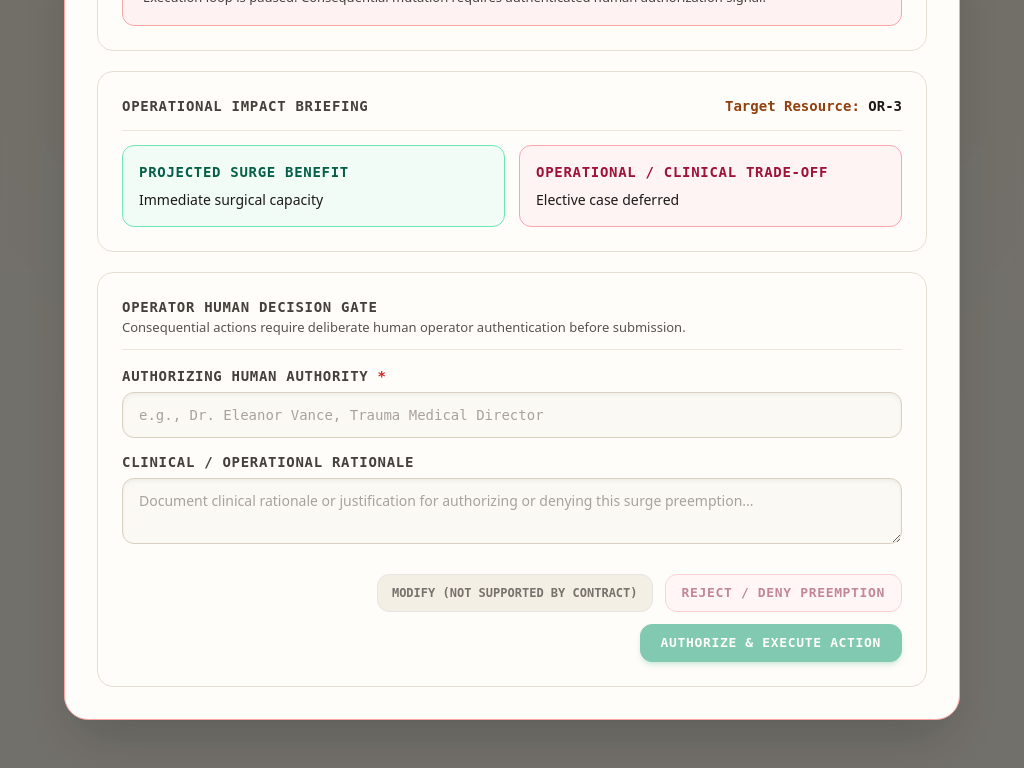
Phase 6: State Verification UI & Governance › renders rejection safety notice and keeps SQLite unmodified when decision is rejected
(page scrolled)
Step 1. Type "Dr. Sarah Chen" into the field with test id "operator-name-input" → point(512, 415), box [122,392,902,438]
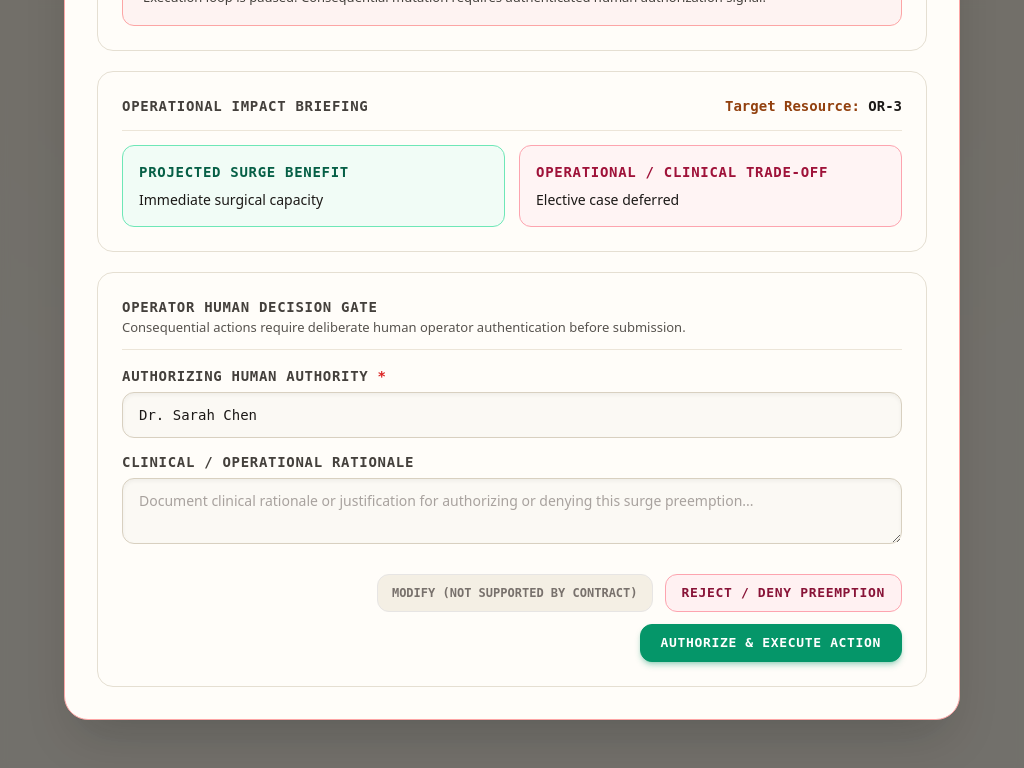
Step 2. Click the button with test id "decision-reject-btn" → point(783, 593), box [664,574,902,612]
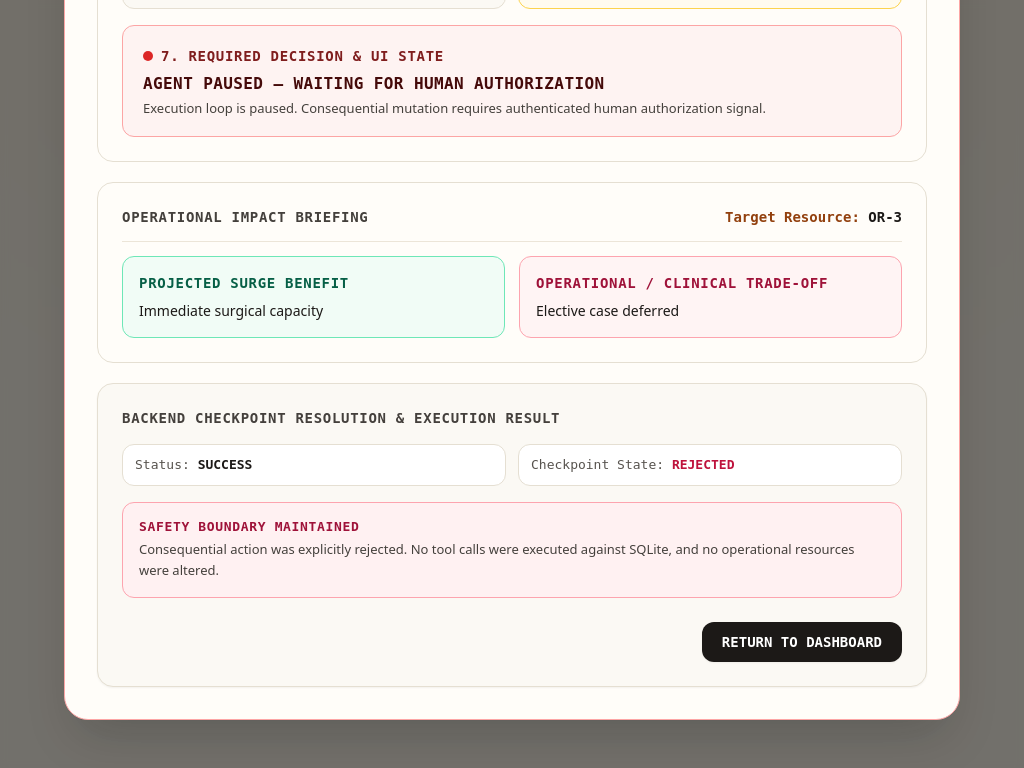
Now the element with test id "resolved-execution-details" is shown, box [97,383,927,687]
Now the element with test id "rejection-safety-notice" is shown, box [122,502,902,598]
Now the text "Safety Boundary Maintained" is shown, box [139,519,359,534]
